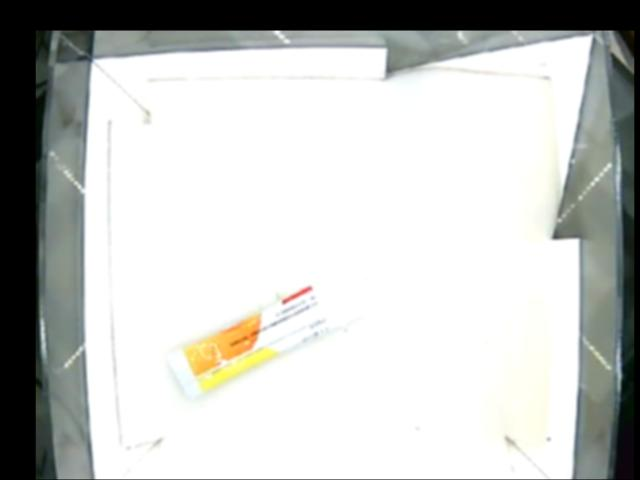Medicine: (165, 261, 378, 398)
